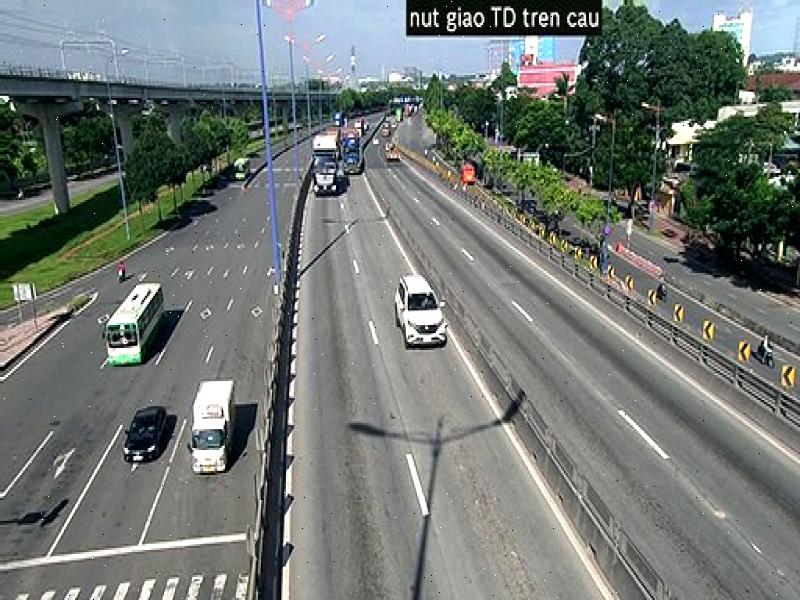bus: (106, 279, 168, 374)
